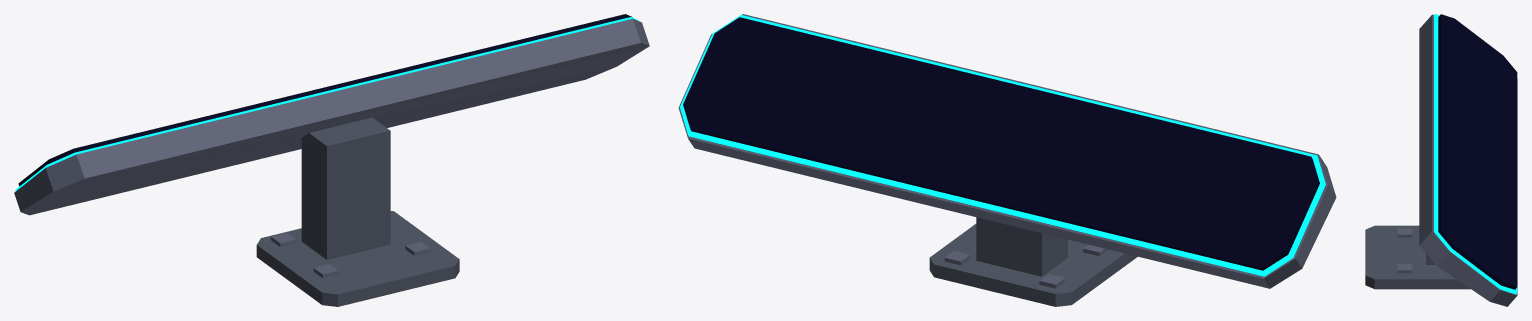
File: nav_panel_low_2.glb
3 views of the same model, side by side, from view 1: azimuth 30°, elevation 25°; view 2: azimuth 150°, elevation 25°; view 3: azimuth 270°, elevation 25° (orthographic). The views are drawn at different scales.
Parts seen in each view (by area): view 1: single-piece low-poly chamfered console body.016, central rectangular pedestal support.005, chamfered floor mounting plate.003, single-piece low-poly chamfered console body.018, single-piece low-poly chamfered console body.017; view 2: single-piece low-poly chamfered console body.018, single-piece low-poly chamfered console body.016, single-piece low-poly chamfered console body.017, chamfered floor mounting plate.003, central rectangular pedestal support.005; view 3: single-piece low-poly chamfered console body.018, single-piece low-poly chamfered console body.016, chamfered floor mounting plate.003, single-piece low-poly chamfered console body.017, low-poly bolt pad -1,-1.003, low-poly bolt pad 1,-1.003.
Boxes of the visible parts, x1,y1,x2,y2 form: single-piece low-poly chamfered console body.016: (14,19,649,215); central rectangular pedestal support.005: (301,117,390,259); chamfered floor mounting plate.003: (256,211,459,306); single-piece low-poly chamfered console body.018: (18,14,632,186); single-piece low-poly chamfered console body.017: (15,17,638,190); single-piece low-poly chamfered console body.018: (683,17,1319,270); single-piece low-poly chamfered console body.016: (678,14,1336,288); single-piece low-poly chamfered console body.017: (680,15,1325,276); chamfered floor mounting plate.003: (929,224,1137,306); central rectangular pedestal support.005: (976,217,1067,276); single-piece low-poly chamfered console body.018: (1438,14,1517,289); single-piece low-poly chamfered console body.016: (1419,14,1517,306); chamfered floor mounting plate.003: (1365,225,1470,289); single-piece low-poly chamfered console body.017: (1434,14,1517,294); low-poly bolt pad -1,-1.003: (1397,228,1412,237); low-poly bolt pad 1,-1.003: (1397,264,1412,273).
Size of the model in its own units: 5.99 by 1.7 by 1.66.
